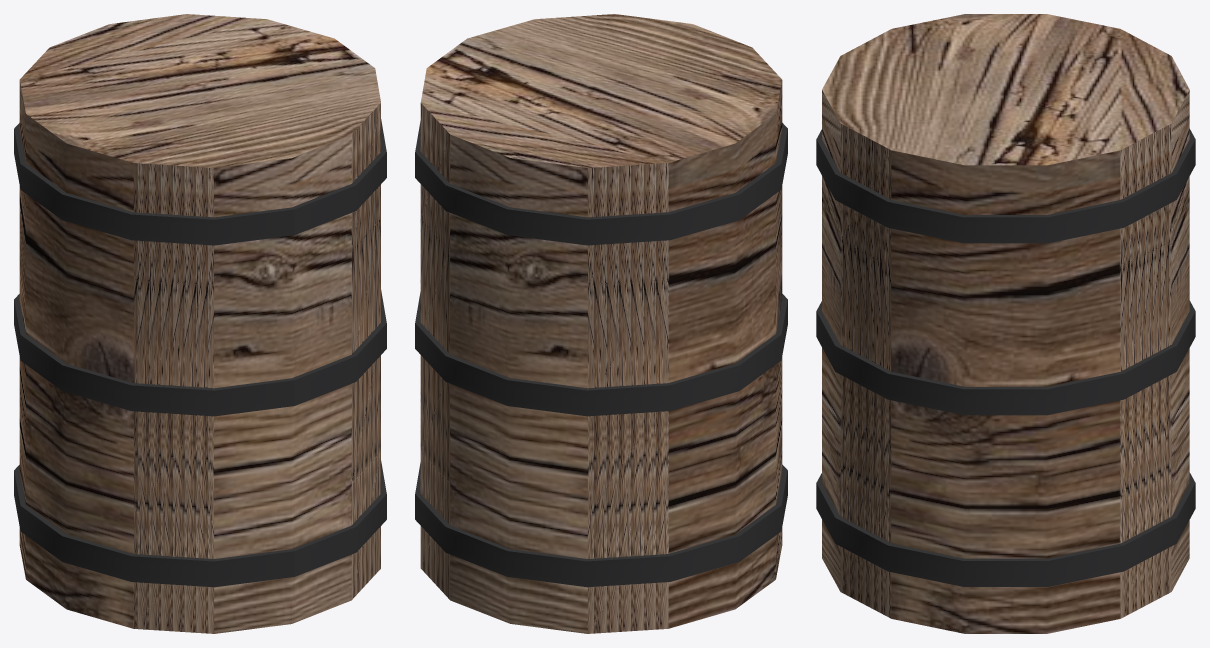
The model's file is barril.glb.
3 renders of one model, left to right at view 1: azimuth 30°, elevation 25°; view 2: azimuth 150°, elevation 25°; view 3: azimuth 270°, elevation 25°, orthographic.
Visible parts, largest first — view 1: pieza; view 2: pieza; view 3: pieza.
Part boxes in pixels (x1,y1,x2,y2): pieza: (14, 14, 386, 633); pieza: (415, 14, 787, 633); pieza: (816, 14, 1195, 633).
Size of the model in its own units: 0.6438 by 0.9 by 0.6601.
2 materials, 1 textured.
